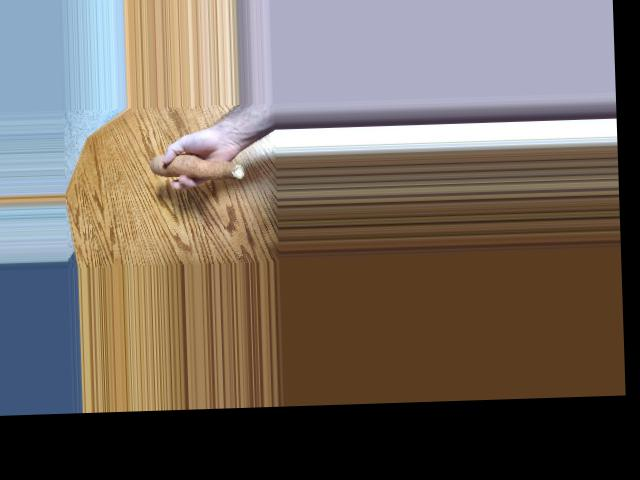sweet_potato: (155, 150, 237, 183)
